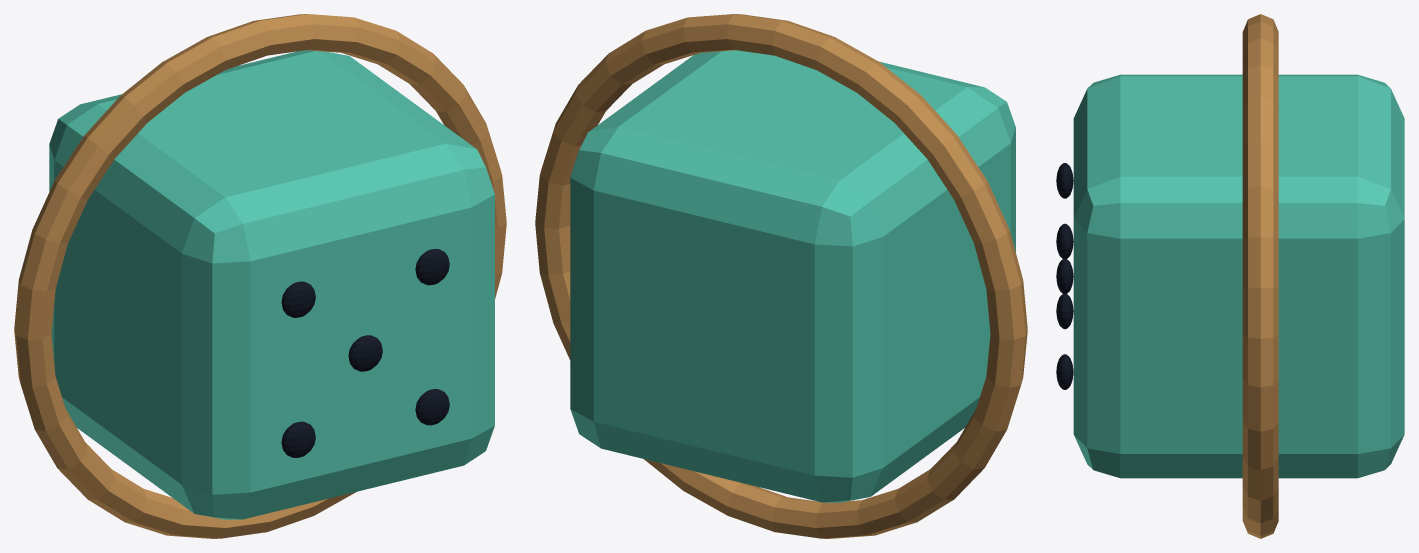
File: Item_reroll_dice.fbx
The picture shows the model from 3 angles, left to right: view 1: azimuth 30°, elevation 25°; view 2: azimuth 150°, elevation 25°; view 3: azimuth 270°, elevation 25°; orthographic projection. The views are drawn at different scales.
Parts seen in each view (by area): view 1: Item_reroll_dice.Mesh; view 2: Item_reroll_dice.Mesh; view 3: Item_reroll_dice.Mesh.
Part boxes in pixels (x1,y1,x2,y2): Item_reroll_dice.Mesh: [14, 14, 506, 538]; Item_reroll_dice.Mesh: [535, 14, 1027, 538]; Item_reroll_dice.Mesh: [1056, 14, 1404, 538].
Bounding box in the file's own units: 73 × 73 × 48.4.
